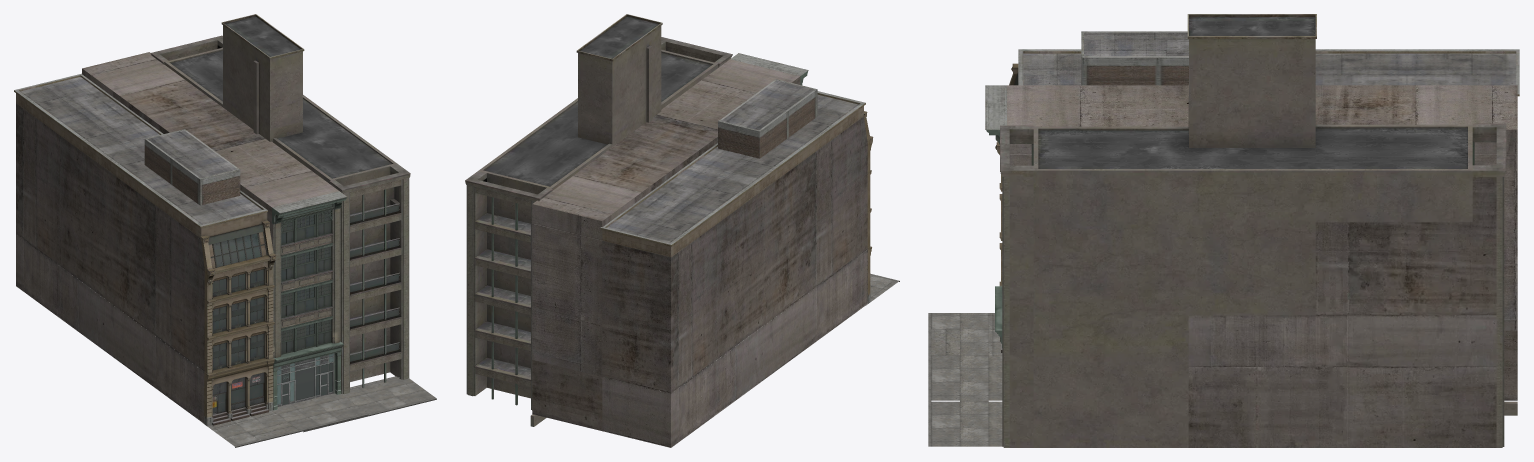
File: soho.glb
The picture shows the model from 3 angles, left to right: view 1: azimuth 30°, elevation 25°; view 2: azimuth 150°, elevation 25°; view 3: azimuth 270°, elevation 25°; orthographic projection. The views are drawn at different scales.
Parts seen in each view (by area): view 1: BROWN_SOHO001_Concrete_0_0, BROWN_SOHO006_Green_SoHo_Extension_0_10, BROWN_SOHO003_Brown_SoHo_0_4, BROWN_SOHO005_Green_SoHo_0_8, BROWN_SOHO004_Rooftops_0_6, BROWN_SOHO007_Sidewalk_0_12, BROWN_SOHO007_Sidewalk_0.001_14, BROWN_SOHO002_Damaged_Sidewalk_0_2; view 2: BROWN_SOHO001_Concrete_0_0, BROWN_SOHO006_Green_SoHo_Extension_0_10, BROWN_SOHO004_Rooftops_0_6, BROWN_SOHO003_Brown_SoHo_0_4, BROWN_SOHO005_Green_SoHo_0_8, BROWN_SOHO007_Sidewalk_0_12; view 3: BROWN_SOHO006_Green_SoHo_Extension_0_10, BROWN_SOHO001_Concrete_0_0, BROWN_SOHO004_Rooftops_0_6, BROWN_SOHO003_Brown_SoHo_0_4, BROWN_SOHO007_Sidewalk_0_12, BROWN_SOHO007_Sidewalk_0.001_14, BROWN_SOHO005_Green_SoHo_0_8, BROWN_SOHO002_Damaged_Sidewalk_0_2.
Part boxes in pixels (<box>): BROWN_SOHO001_Concrete_0_0: <box>16,52,338,423</box>; BROWN_SOHO006_Green_SoHo_Extension_0_10: <box>150,14,410,394</box>; BROWN_SOHO003_Brown_SoHo_0_4: <box>14,73,276,426</box>; BROWN_SOHO005_Green_SoHo_0_8: <box>272,191,347,410</box>; BROWN_SOHO004_Rooftops_0_6: <box>20,77,261,224</box>; BROWN_SOHO007_Sidewalk_0_12: <box>213,393,368,447</box>; BROWN_SOHO007_Sidewalk_0.001_14: <box>303,376,436,432</box>; BROWN_SOHO002_Damaged_Sidewalk_0_2: <box>203,410,298,439</box>; BROWN_SOHO001_Concrete_0_0: <box>532,59,867,447</box>; BROWN_SOHO006_Green_SoHo_Extension_0_10: <box>465,14,732,426</box>; BROWN_SOHO004_Rooftops_0_6: <box>607,80,858,242</box>; BROWN_SOHO003_Brown_SoHo_0_4: <box>600,79,873,303</box>; BROWN_SOHO005_Green_SoHo_0_8: <box>730,53,808,85</box>; BROWN_SOHO007_Sidewalk_0_12: <box>870,273,899,297</box>; BROWN_SOHO006_Green_SoHo_Extension_0_10: <box>1000,14,1517,447</box>; BROWN_SOHO001_Concrete_0_0: <box>1007,85,1517,400</box>; BROWN_SOHO004_Rooftops_0_6: <box>1023,32,1516,85</box>; BROWN_SOHO003_Brown_SoHo_0_4: <box>995,31,1519,352</box>; BROWN_SOHO007_Sidewalk_0_12: <box>928,313,1002,400</box>; BROWN_SOHO007_Sidewalk_0.001_14: <box>928,400,1003,446</box>; BROWN_SOHO005_Green_SoHo_0_8: <box>985,85,1006,347</box>; BROWN_SOHO002_Damaged_Sidewalk_0_2: <box>931,313,1002,355</box>.
Bounding box in the file's own units: 23.52 × 33.02 × 44.12.
6 materials, 6 textured.
